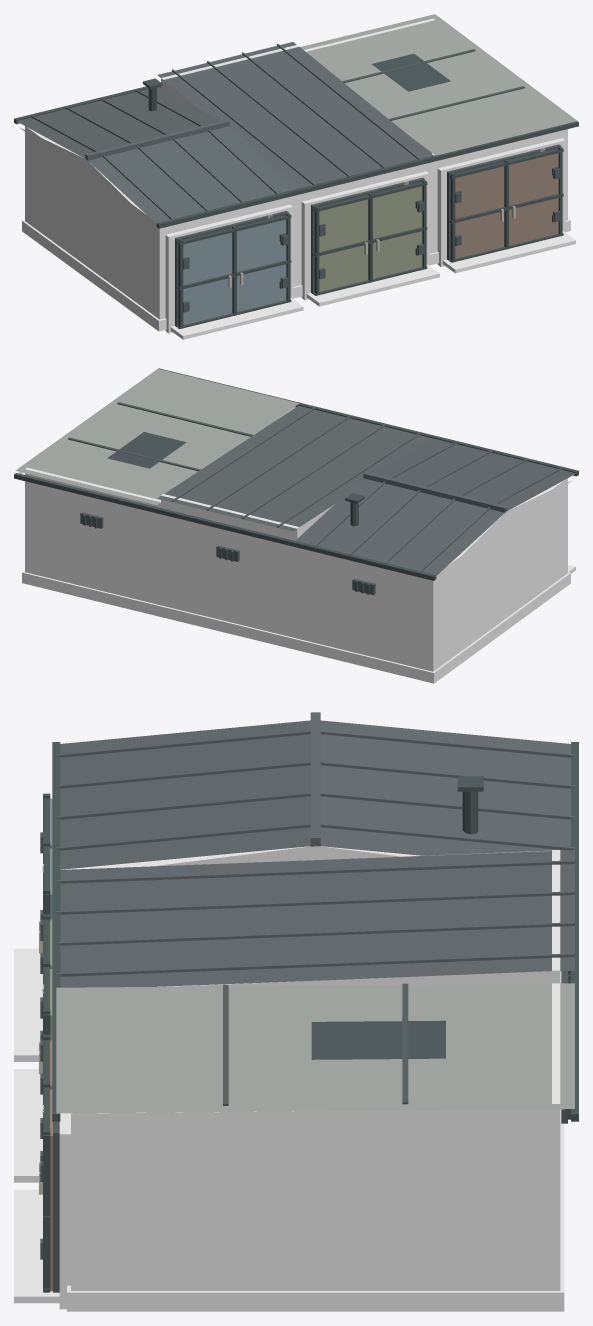
Rendered from frontier_garage_short_0.glb.
The picture shows the model from 3 angles, top to bottom: view 1: azimuth 30°, elevation 25°; view 2: azimuth 150°, elevation 25°; view 3: azimuth 270°, elevation 25°; orthographic projection. The views are drawn at different scales.
Visible parts, largest first — view 1: frontier_garage_short_0; view 2: frontier_garage_short_0; view 3: frontier_garage_short_0.
Boxes of the visible parts, bbox=[...] form: frontier_garage_short_0: bbox=[14, 14, 578, 339]; frontier_garage_short_0: bbox=[14, 368, 578, 683]; frontier_garage_short_0: bbox=[14, 712, 578, 1311].
Bounding box in the file's own units: 10.8 × 3.55 × 6.93.
